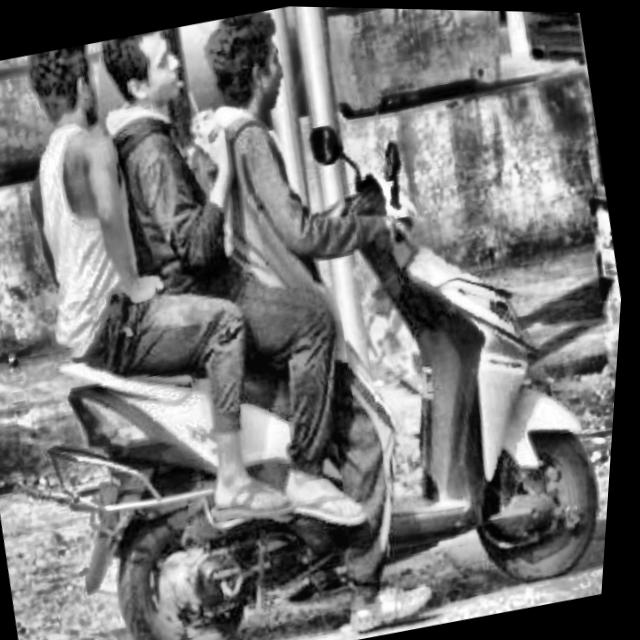motorcycle: (0, 124, 634, 640)
